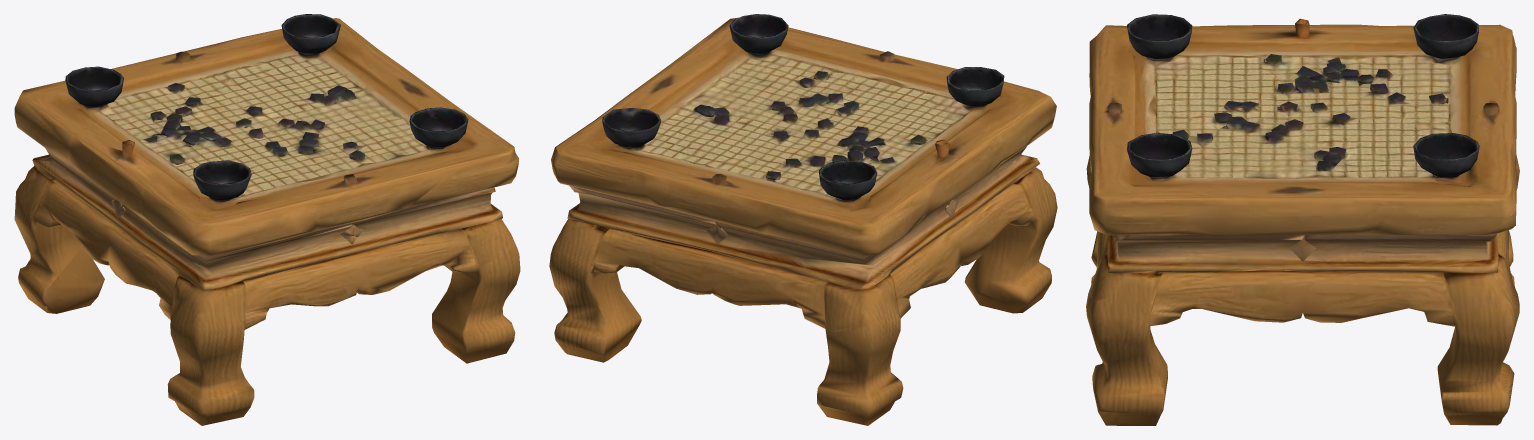
Rendered from au_furn_arcade_zen.glb.
3 views of the same model, side by side, from view 1: azimuth 30°, elevation 25°; view 2: azimuth 150°, elevation 25°; view 3: azimuth 270°, elevation 25° (orthographic). The views are drawn at different scales.
Visible parts, largest first — view 1: tripo_node_32483eab-71f1-4250-8590-7b7abb8c284b; view 2: tripo_node_32483eab-71f1-4250-8590-7b7abb8c284b; view 3: tripo_node_32483eab-71f1-4250-8590-7b7abb8c284b.
Boxes of the visible parts, x1,y1,x2,y2 form: tripo_node_32483eab-71f1-4250-8590-7b7abb8c284b: (14, 14, 520, 425); tripo_node_32483eab-71f1-4250-8590-7b7abb8c284b: (549, 14, 1057, 425); tripo_node_32483eab-71f1-4250-8590-7b7abb8c284b: (1086, 14, 1519, 425).
Bounding box in the file's own units: 0.9771 × 0.6367 × 0.9799.
1 material, 1 textured.
